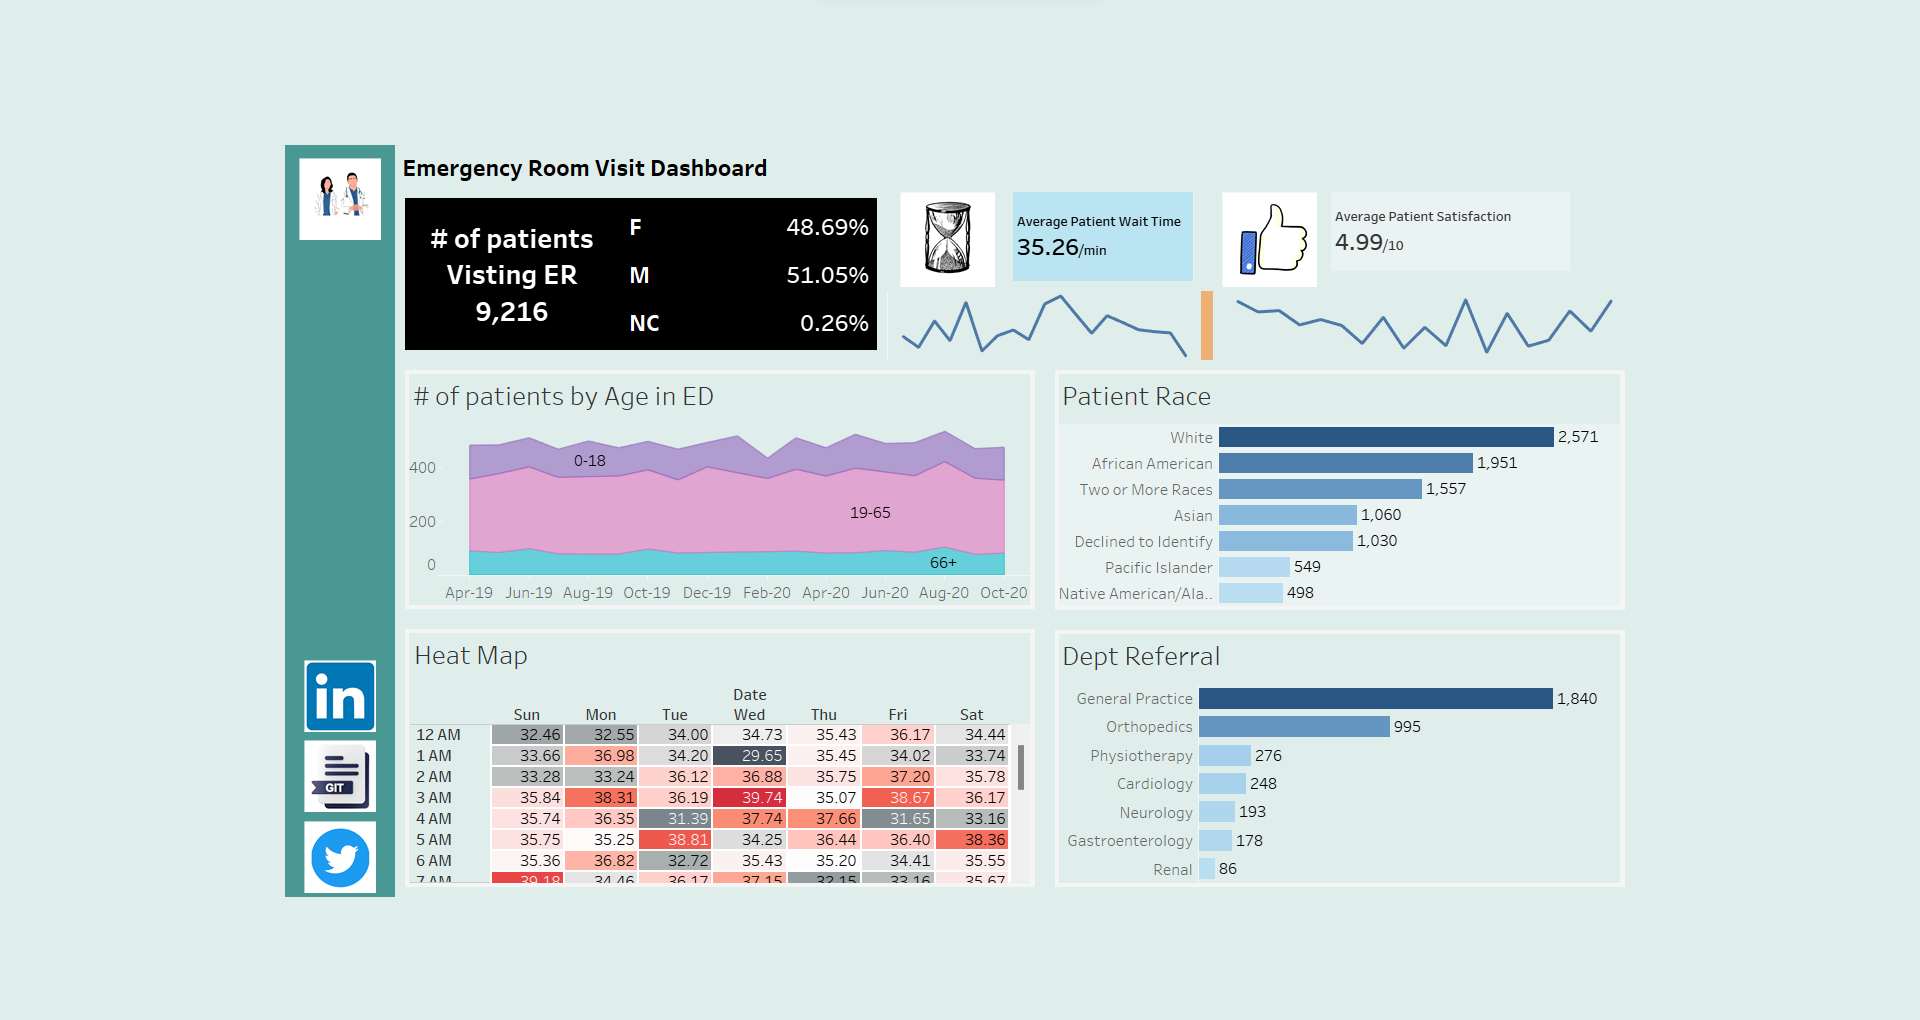

Layout of this report page (visuals, bound fields, positions):
{"tool":"tableau","page":{"name":"Dashboard 1","canvas":[1366,768],"ordinal":0},"visuals":[{"type":"image","param":"Image/Doctor Icon.png","box":[8,8,110,108]},{"type":"text","box":[118,8,649.5,43]},{"type":"image","param":"Image/Hour Glass .png","box":[610,51,122,103]},{"type":"worksheet","title":"Average Wait Time","mark":"Automatic","box":[732,51,204,97]},{"type":"image","param":"Image/Thumbsup.png","box":[936,51,114,103]},{"type":"worksheet","title":"Average Statisfaction","mark":"Automatic","box":[1050,51,308,87]},{"type":"worksheet","title":"# Pats ED","mark":"Automatic","box":[128,61,214,152]},{"type":"worksheet","title":"Gender","mark":"Automatic","rows":["patient_gender"],"box":[342,61,258,152]},{"type":"worksheet","title":"Waittime Average","mark":"Automatic","rows":["patient_waittime"],"cols":["date"],"box":[610,154,326,69]},{"type":"worksheet","title":"Patient Satisfaction","mark":"Automatic","rows":["patient_sat_score"],"cols":["date"],"box":[936,154,422,69]},{"type":"worksheet","title":"# Patients by Age","mark":"Area","rows":["patient_id"],"cols":["date"],"box":[128,233,629.5,239]},{"type":"worksheet","title":"Patient Race","mark":"Automatic","rows":["patient_race"],"cols":["patient_id"],"box":[777.5,233,570.5,240]},{"type":"worksheet","title":"Heat Map","mark":"Square","rows":["date"],"cols":["date"],"box":[128,492,629.5,258]},{"type":"worksheet","title":"Dept Referral","mark":"Automatic","rows":["department_referral"],"cols":["patient_id"],"box":[777.5,493,570.5,257]},{"type":"image","param":"Image/LinkedIn Logo.png","box":[8,519,110,80.3]},{"type":"image","param":"Image/Github Logo.png","box":[8,599.3,110,80.3]},{"type":"image","param":"Image/Twitter Logo.png","box":[8,679.7,110,80.3]}]}

Visuals, with their boxes on the page's 1366x768 design canvas (x1, y1, x2, y2). These are canvas units, not pixel positions in the 1920x1020 screenshot, which may show the page scaled, cropped or inside an application window:
image: <box>8,8,118,116</box>
text: <box>118,8,768,51</box>
image: <box>610,51,732,154</box>
"Average Wait Time" worksheet: <box>732,51,936,148</box>
image: <box>936,51,1050,154</box>
"Average Statisfaction" worksheet: <box>1050,51,1358,138</box>
"# Pats ED" worksheet: <box>128,61,342,213</box>
"Gender" worksheet: <box>342,61,600,213</box>
"Waittime Average" worksheet: <box>610,154,936,223</box>
"Patient Satisfaction" worksheet: <box>936,154,1358,223</box>
"# Patients by Age" worksheet (Area marks): <box>128,233,758,472</box>
"Patient Race" worksheet: <box>778,233,1348,473</box>
"Heat Map" worksheet (Square marks): <box>128,492,758,750</box>
"Dept Referral" worksheet: <box>778,493,1348,750</box>
image: <box>8,519,118,599</box>
image: <box>8,599,118,680</box>
image: <box>8,680,118,760</box>
